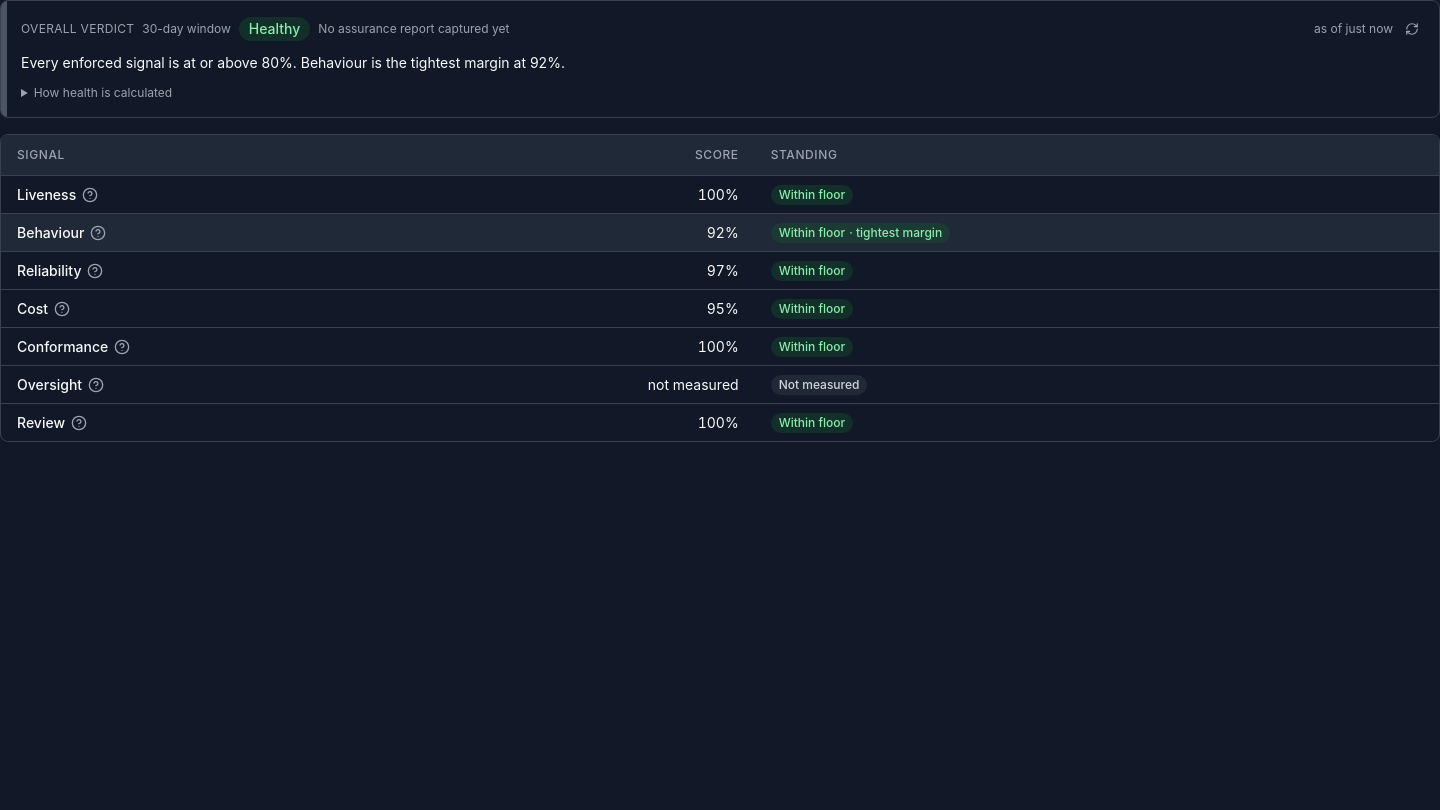
it: SignalsOverview › gives every signal row a help button that explains how it is scored
Click the button named "How Reliability is scored" at [96, 270], box [88,262,104,278]
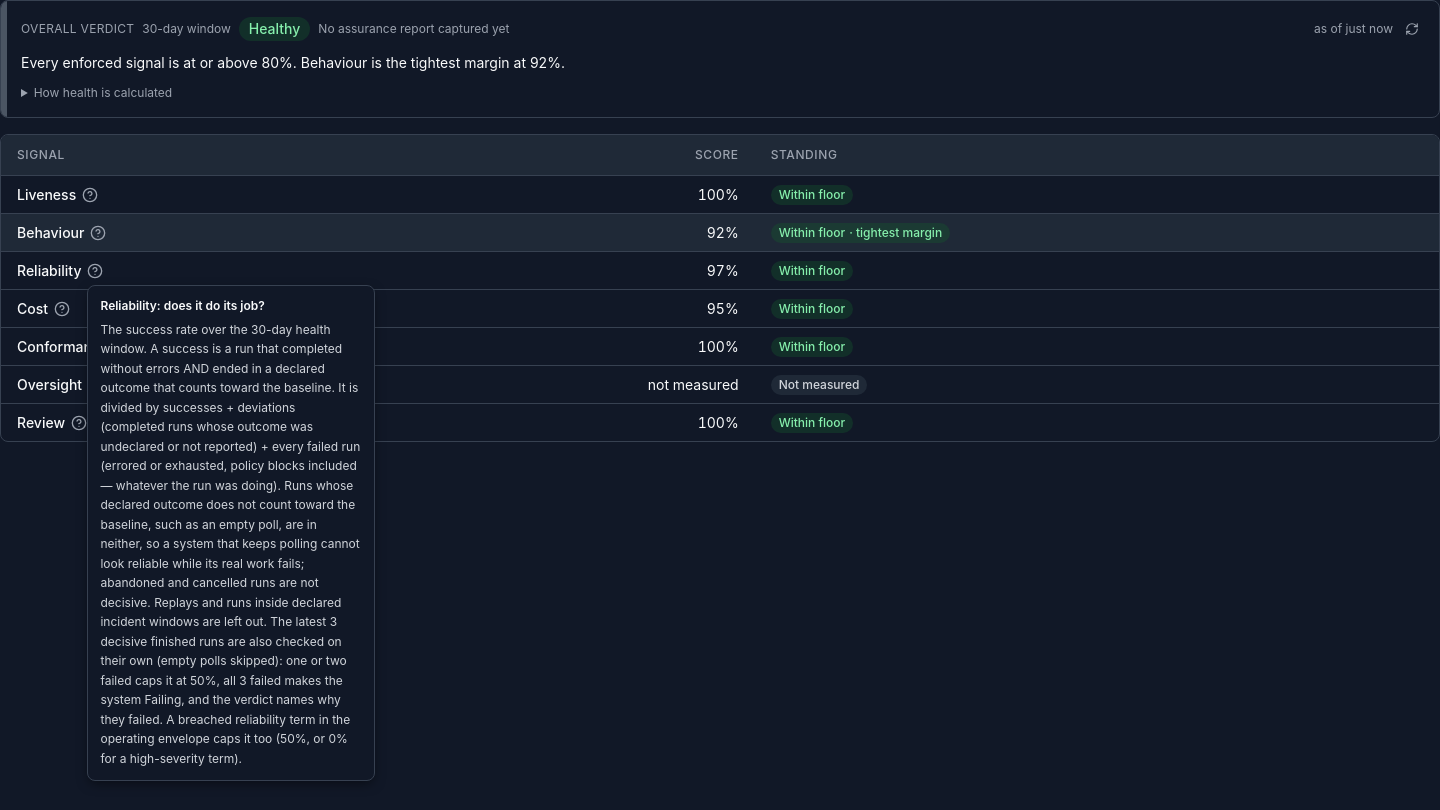
Now the element with test id "help-tip-popover" shows "Reliability: does it do its job?", box [100,298,265,312]
Now the element with test id "help-tip-popover" shows "declared outcome that counts toward the baseline", box [100,322,360,766]
Now the element with test id "help-tip-popover" shows "policy blocks included", box [100,322,360,766]
